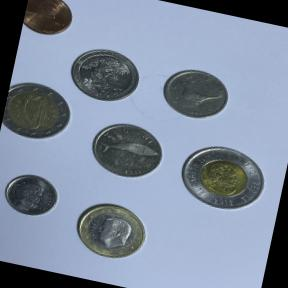1 Euro-B: (65, 195, 154, 272)
2 Euro-B: (0, 76, 80, 149)
Canada-10cent-B: (0, 166, 67, 229)
Canada-2Dollar-B: (170, 134, 274, 224)
Croatia-2Kune-B: (82, 114, 172, 188)
US-1cent-B: (20, 0, 79, 43)
US-25cent-B: (62, 40, 146, 109)
